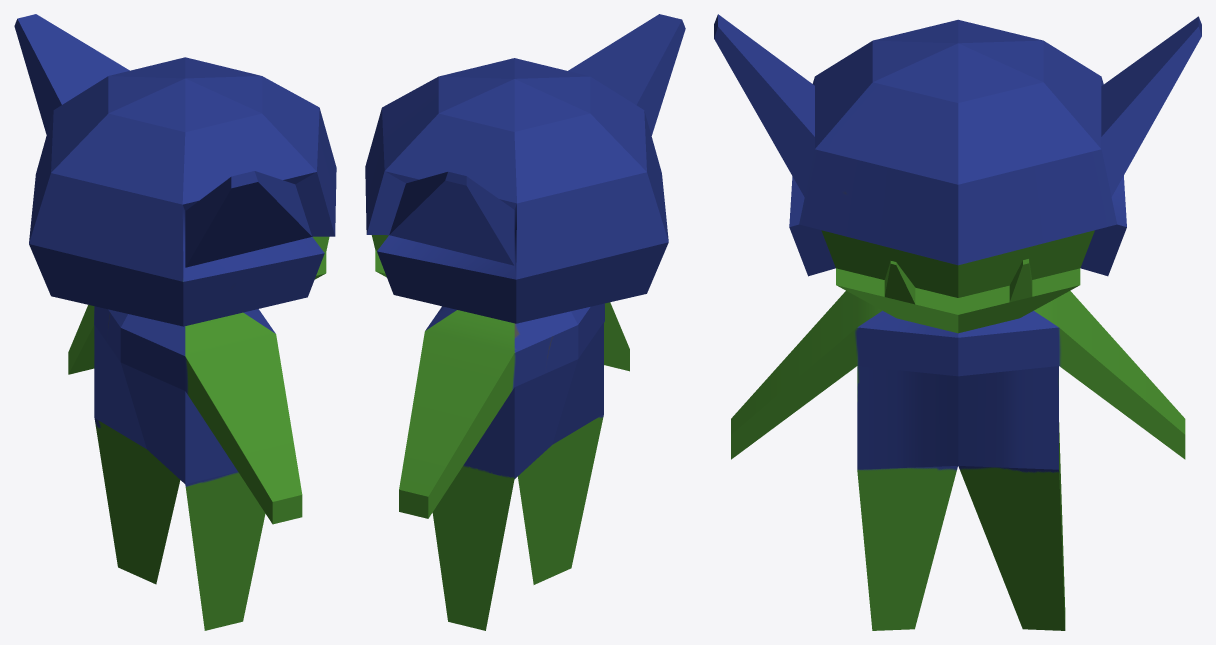
File: UnitSmall.fbx
3 views of the same model, side by side, from view 1: azimuth 30°, elevation 25°; view 2: azimuth 150°, elevation 25°; view 3: azimuth 270°, elevation 25° (orthographic). The views are drawn at different scales.
Parts seen in each view (by area): view 1: pSphere1; view 2: pSphere1; view 3: pSphere1.
Boxes of the visible parts, bbox=[...] form: pSphere1: bbox=[14, 14, 336, 630]; pSphere1: bbox=[365, 14, 685, 630]; pSphere1: bbox=[714, 14, 1201, 630].
Size of the model in its own units: 30.42 by 49.83 by 37.6.
